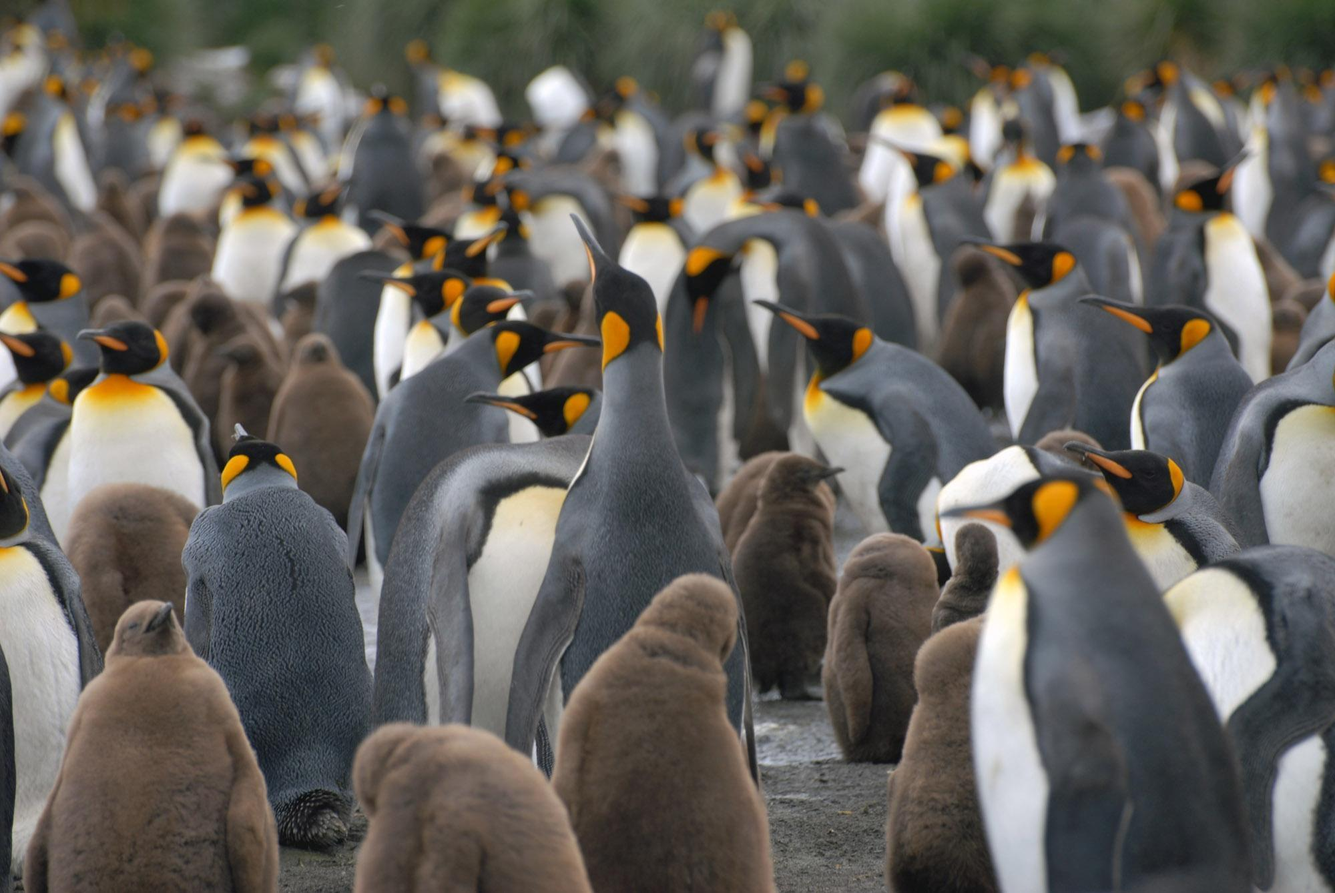Penguin: (933, 472, 1252, 892), (506, 212, 732, 751), (182, 423, 372, 846), (23, 599, 278, 892), (346, 317, 600, 608), (553, 576, 774, 892), (373, 432, 590, 738), (752, 298, 996, 547), (1165, 545, 1334, 892), (0, 443, 101, 892), (352, 724, 591, 892), (970, 237, 1141, 450), (1085, 295, 1251, 484), (680, 237, 808, 480), (886, 618, 998, 892), (68, 320, 222, 512), (1149, 151, 1274, 379), (1210, 339, 1334, 556), (821, 534, 938, 763), (732, 454, 840, 700), (1069, 441, 1237, 594), (63, 486, 197, 652), (266, 333, 374, 515), (896, 147, 983, 353), (1039, 138, 1145, 301), (5, 367, 97, 549), (388, 285, 533, 384), (938, 431, 1116, 509), (312, 251, 401, 388), (939, 251, 1013, 403), (0, 258, 97, 365), (213, 331, 285, 460), (0, 331, 71, 442), (717, 452, 790, 555), (932, 523, 999, 632), (361, 268, 514, 315), (465, 385, 599, 436), (372, 287, 418, 393), (1286, 274, 1334, 365)
